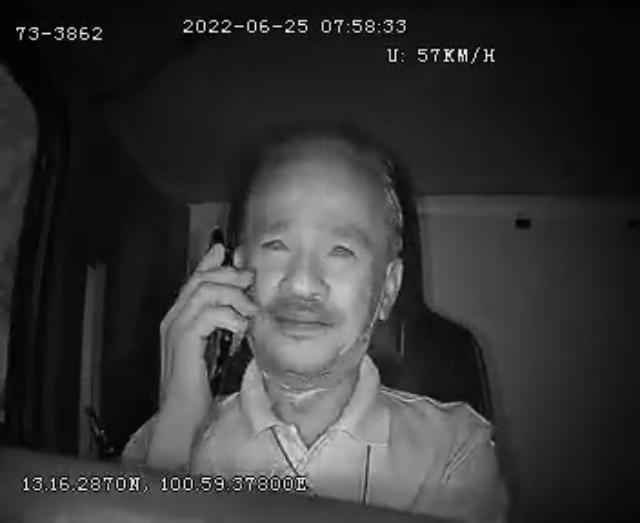PhoneUse: (198, 224, 238, 404)
SafeDriving: (320, 230, 364, 268), (254, 224, 296, 260)
